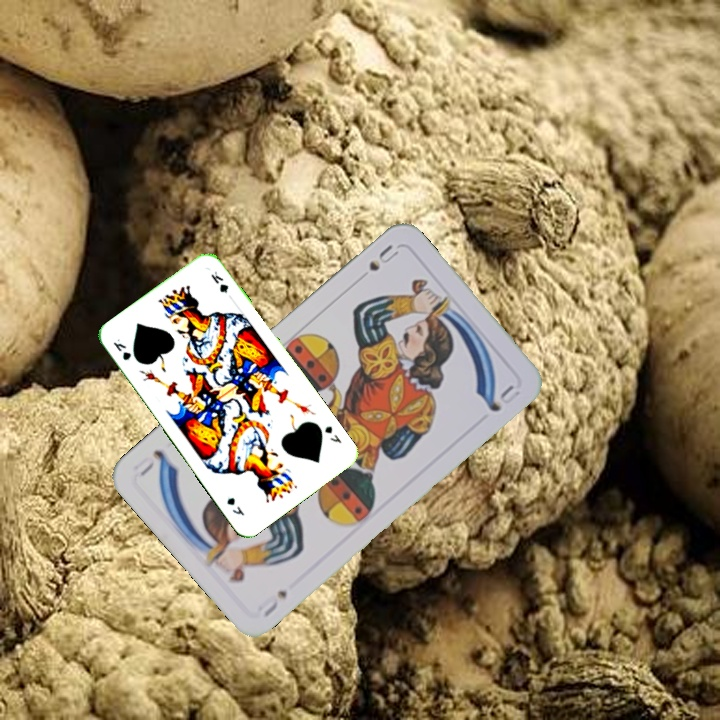GK: (109, 335, 134, 363), (320, 422, 344, 446)
SU: (364, 240, 402, 274), (253, 586, 290, 620)
